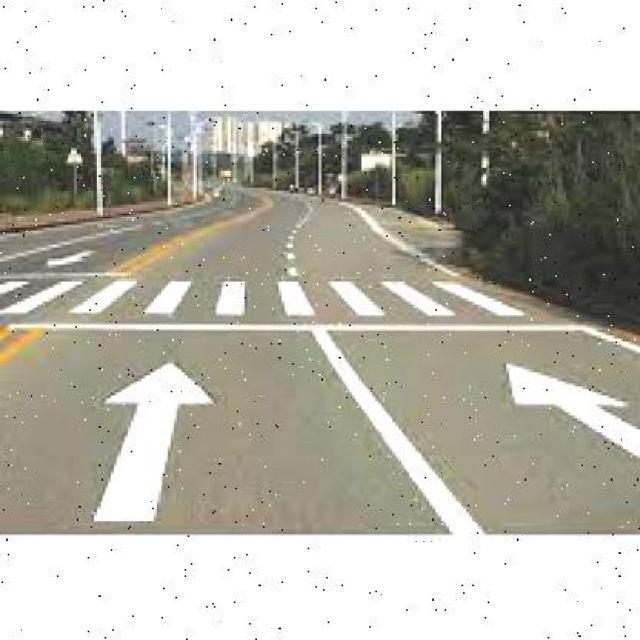crosswalk: (4, 277, 537, 315)
